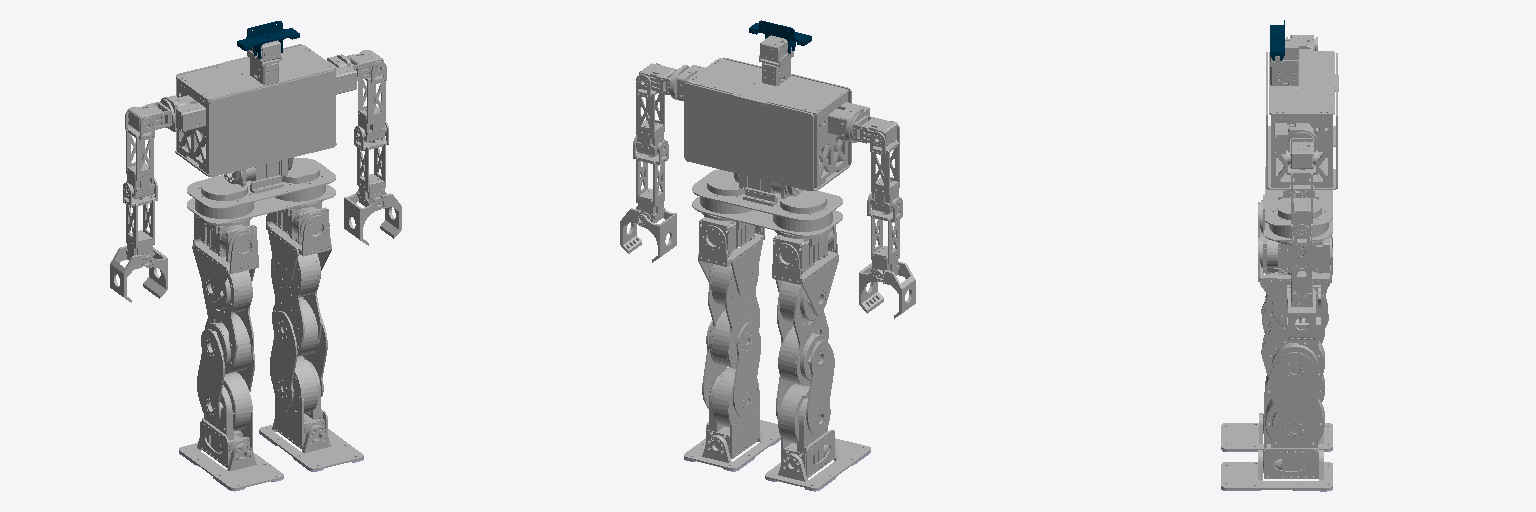
--- Facts derived from the render (not from the file) ---
3 views of the same robot in one strip: view 1: azimuth 30°, elevation 25°; view 2: azimuth 150°, elevation 25°; view 3: azimuth 270°, elevation 25° (orthographic).
Model v1120114 with 30 links and 29 joints (21 continuous, 8 fixed), rooted at base_link, posed all joints at 0.
Visible links, largest first — view 1: link3, base_link, link32, link13, link23, link42, link34, link44, link43, link35, link41, link45 (+10 smaller); view 2: link3, base_link, link32, link13, link23, link42, link34, link44, link43, link41, link31, link33 (+10 smaller); view 3: link3, link43, link23, link44, link42, base_link, link45, link40, link35, link41, link22, link21.
Link boxes in pixels (box(x1,y1,x2,y2)): link3: box(161, 44, 356, 183); base_link: box(187, 158, 335, 224); link32: box(202, 257, 253, 373); link13: box(110, 178, 167, 302); link23: box(344, 121, 401, 245); link42: box(271, 253, 321, 356); link34: box(200, 372, 252, 467); link44: box(273, 356, 327, 448); link43: box(270, 311, 327, 406); link35: box(179, 438, 283, 489); link41: box(266, 215, 331, 286); link45: box(259, 419, 363, 469); link3: box(671, 58, 869, 196); base_link: box(692, 169, 842, 236); link32: box(777, 270, 828, 385); link13: box(859, 192, 915, 318); link23: box(620, 135, 676, 262); link42: box(708, 252, 759, 368); link34: box(778, 384, 834, 478); link44: box(706, 368, 759, 458); link43: box(702, 320, 760, 418); link41: box(698, 225, 764, 297); link31: box(772, 237, 838, 312); link33: box(776, 340, 834, 436); link3: box(1266, 44, 1338, 197); link43: box(1269, 352, 1321, 445); link23: box(1287, 224, 1320, 339); link44: box(1263, 399, 1324, 478); link42: box(1261, 293, 1328, 385); base_link: box(1265, 167, 1332, 241); link45: box(1221, 450, 1332, 489); link40: box(1260, 230, 1330, 272); link35: box(1221, 413, 1332, 450); link41: box(1258, 237, 1332, 322); link22: box(1286, 150, 1317, 235); link21: box(1287, 132, 1316, 168).
Bounding box of the posed robot: 0.5163 × 0.1898 × 0.762 m (x, y, z).
Meshes: 30 distinct files referenced, 30 mesh visuals loaded (30 binary STL).

URDF robot description (v1120114):
<?xml version="1.0" encoding="utf-8"?>
<!-- This URDF was automatically created by SolidWorks to URDF Exporter! Originally created by Stephen Brawner ([email redacted]) 
     Commit Version: 1.6.0-4-g7f85cfe  Build Version: 1.6.7995.38578
     For more information, please see http://wiki.ros.org/sw_urdf_exporter -->
<robot
  name="v1120114">
  <link
    name="base_link">
    <inertial>
      <origin
        xyz="0.0291376719735389 -0.00232841132499396 -0.0260909942531327"
        rpy="0 0 0" />
      <mass
        value="1.70448509015393" />
      <inertia
        ixx="0.000990902418013622"
        ixy="-4.41076173735161E-08"
        ixz="4.44507951399018E-10"
        iyy="0.00213234338098191"
        iyz="3.50429747363444E-06"
        izz="0.00150337021292883" />
    </inertial>
    <visual>
      <origin
        xyz="0 0 0"
        rpy="0 0 0" />
      <geometry>
        <mesh
          filename="package://v1120114/meshes/base_link.STL" />
      </geometry>
      <material
        name="">
        <color
          rgba="0.752941176470588 0.752941176470588 0.752941176470588 1" />
      </material>
    </visual>
    <collision>
      <origin
        xyz="0 0 0"
        rpy="0 0 0" />
      <geometry>
        <mesh
          filename="package://v1120114/meshes/base_link.STL" />
      </geometry>
    </collision>
  </link>
  <link
    name="link3">
    <inertial>
      <origin
        xyz="0.00106898627925063 -6.13352575565967E-07 0.109277892349844"
        rpy="0 0 0" />
      <mass
        value="1.02787228097608" />
      <inertia
        ixx="0.00256857014602343"
        ixy="-3.37682122362648E-08"
        ixz="2.20061121136571E-06"
        iyy="0.00105757702703917"
        iyz="-3.24676155208834E-10"
        izz="0.00245909018529" />
    </inertial>
    <visual>
      <origin
        xyz="0 0 0"
        rpy="0 0 0" />
      <geometry>
        <mesh
          filename="package://v1120114/meshes/link3.STL" />
      </geometry>
      <material
        name="">
        <color
          rgba="0.752941176470588 0.752941176470588 0.752941176470588 1" />
      </material>
    </visual>
    <collision>
      <origin
        xyz="0 0 0"
        rpy="0 0 0" />
      <geometry>
        <mesh
          filename="package://v1120114/meshes/link3.STL" />
      </geometry>
    </collision>
  </link>
  <joint
    name="joint3"
    type="continuous">
    <origin
      xyz="0.02475 0.026 0.0315"
      rpy="0 0 -1.5708" />
    <parent
      link="base_link" />
    <child
      link="link3" />
    <axis
      xyz="0 -1 0" />
  </joint>
  <link
    name="link2">
    <inertial>
      <origin
        xyz="-0.0116602183846459 0.000361279735885737 0.0166253001732367"
        rpy="0 0 0" />
      <mass
        value="0.0523123931279547" />
      <inertia
        ixx="8.53895873186143E-06"
        ixy="-1.99833625344026E-08"
        ixz="1.81459483650498E-08"
        iyy="1.21489113617251E-05"
        iyz="-2.11768165409156E-17"
        izz="1.50041243795591E-05" />
    </inertial>
    <visual>
      <origin
        xyz="0 0 0"
        rpy="0 0 0" />
      <geometry>
        <mesh
          filename="package://v1120114/meshes/link2.STL" />
      </geometry>
      <material
        name="">
        <color
          rgba="0.752941176470588 0.752941176470588 0.752941176470588 1" />
      </material>
    </visual>
    <collision>
      <origin
        xyz="0 0 0"
        rpy="0 0 0" />
      <geometry>
        <mesh
          filename="package://v1120114/meshes/link2.STL" />
      </geometry>
    </collision>
  </link>
  <joint
    name="joint2"
    type="continuous">
    <origin
      xyz="0.0345 0 0.1995"
      rpy="0 0 0" />
    <parent
      link="link3" />
    <child
      link="link2" />
    <axis
      xyz="0 0 1" />
  </joint>
  <link
    name="link1">
    <inertial>
      <origin
        xyz="-0.00169500535411865 -0.0200192249368634 -2.35547692462035E-13"
        rpy="0 0 0" />
      <mass
        value="0.0158060600482859" />
      <inertia
        ixx="1.49380872581015E-05"
        ixy="-3.18300006842022E-07"
        ixz="5.33619491943895E-14"
        iyy="1.49156221752885E-05"
        iyz="2.70520019157455E-17"
        izz="1.82963832607674E-06" />
    </inertial>
    <visual>
      <origin
        xyz="0 0 0"
        rpy="0 0 0" />
      <geometry>
        <mesh
          filename="package://v1120114/meshes/link1.STL" />
      </geometry>
      <material
        name="">
        <color
          rgba="0 0.235294117647059 0.352941176470588 1" />
      </material>
    </visual>
    <collision>
      <origin
        xyz="0 0 0"
        rpy="0 0 0" />
      <geometry>
        <mesh
          filename="package://v1120114/meshes/link1.STL" />
      </geometry>
    </collision>
  </link>
  <joint
    name="joint1"
    type="continuous">
    <origin
      xyz="0 0 0.01925"
      rpy="-1.5708 0 0" />
    <parent
      link="link2" />
    <child
      link="link1" />
    <axis
      xyz="0 0 1" />
  </joint>
  <link
    name="link11">
    <inertial>
      <origin
        xyz="-0.000301742188351311 5.89278625895417E-12 0.0264624259819208"
        rpy="0 0 0" />
      <mass
        value="0.0712150035674857" />
      <inertia
        ixx="1.55662024225693E-05"
        ixy="-2.11558691998734E-17"
        ixz="1.99833625344026E-08"
        iyy="1.63739672615053E-05"
        iyz="-1.66982230363125E-14"
        izz="1.17915618373004E-05" />
    </inertial>
    <visual>
      <origin
        xyz="0 0 0"
        rpy="0 0 0" />
      <geometry>
        <mesh
          filename="package://v1120114/meshes/link11.STL" />
      </geometry>
      <material
        name="">
        <color
          rgba="0.752941176470588 0.752941176470588 0.752941176470588 1" />
      </material>
    </visual>
    <collision>
      <origin
        xyz="0 0 0"
        rpy="0 0 0" />
      <geometry>
        <mesh
          filename="package://v1120114/meshes/link11.STL" />
      </geometry>
    </collision>
  </link>
  <joint
    name="joint11"
    type="continuous">
    <origin
      xyz="-0.005 -0.168 0.129"
      rpy="-1.5708 0 3.1416" />
    <parent
      link="link3" />
    <child
      link="link11" />
    <axis
      xyz="0 0 1" />
  </joint>
  <link
    name="link12">
    <inertial>
      <origin
        xyz="-0.0806893215186349 0.000215232679511151 4.77920134023258E-12"
        rpy="0 0 0" />
      <mass
        value="0.0878091914998004" />
      <inertia
        ixx="1.11537385316148E-05"
        ixy="1.99833625344143E-08"
        ixz="1.66983819679157E-14"
        iyy="3.4579475534257E-05"
        iyz="2.11771711192231E-17"
        izz="3.92290812378862E-05" />
    </inertial>
    <visual>
      <origin
        xyz="0 0 0"
        rpy="0 0 0" />
      <geometry>
        <mesh
          filename="package://v1120114/meshes/link12.STL" />
      </geometry>
      <material
        name="">
        <color
          rgba="0.752941176470588 0.752941176470588 0.752941176470588 1" />
      </material>
    </visual>
    <collision>
      <origin
        xyz="0 0 0"
        rpy="0 0 0" />
      <geometry>
        <mesh
          filename="package://v1120114/meshes/link12.STL" />
      </geometry>
    </collision>
  </link>
  <joint
    name="joint12"
    type="continuous">
    <origin
      xyz="0 0 0.04715"
      rpy="1.5708 0 -1.5708" />
    <parent
      link="link11" />
    <child
      link="link12" />
    <axis
      xyz="0 0 1" />
  </joint>
  <link
    name="link13">
    <inertial>
      <origin
        xyz="0.105814490495438 0.000533646751033057 -0.000370471378388859"
        rpy="0 0 0" />
      <mass
        value="0.140001131112476" />
      <inertia
        ixx="3.35192747605671E-05"
        ixy="1.98392206984745E-08"
        ixz="-4.6218474253649E-07"
        iyy="6.6362033771056E-05"
        iyz="-7.15138706926308E-11"
        izz="8.33848100523664E-05" />
    </inertial>
    <visual>
      <origin
        xyz="0 0 0"
        rpy="0 0 0" />
      <geometry>
        <mesh
          filename="package://v1120114/meshes/link13.STL" />
      </geometry>
      <material
        name="">
        <color
          rgba="0.752941176470588 0.752941176470588 0.752941176470588 1" />
      </material>
    </visual>
    <collision>
      <origin
        xyz="0 0 0"
        rpy="0 0 0" />
      <geometry>
        <mesh
          filename="package://v1120114/meshes/link13.STL" />
      </geometry>
    </collision>
  </link>
  <joint
    name="joint13"
    type="continuous">
    <origin
      xyz="-0.12015 0 0"
      rpy="1.5708 0 3.1416" />
    <parent
      link="link12" />
    <child
      link="link13" />
    <axis
      xyz="0 0 1" />
  </joint>
  <link
    name="link21">
    <inertial>
      <origin
        xyz="-0.000301742188351276 5.89289728125664E-12 0.0264624259819208"
        rpy="0 0 0" />
      <mass
        value="0.0712150035674857" />
      <inertia
        ixx="1.55662024225693E-05"
        ixy="-2.11912075755592E-17"
        ixz="1.99833625343981E-08"
        iyy="1.63739672615053E-05"
        iyz="-1.66982253386046E-14"
        izz="1.17915618373004E-05" />
    </inertial>
    <visual>
      <origin
        xyz="0 0 0"
        rpy="0 0 0" />
      <geometry>
        <mesh
          filename="package://v1120114/meshes/link21.STL" />
      </geometry>
      <material
        name="">
        <color
          rgba="0.752941176470588 0.752941176470588 0.752941176470588 1" />
      </material>
    </visual>
    <collision>
      <origin
        xyz="0 0 0"
        rpy="0 0 0" />
      <geometry>
        <mesh
          filename="package://v1120114/meshes/link21.STL" />
      </geometry>
    </collision>
  </link>
  <joint
    name="joint21"
    type="continuous">
    <origin
      xyz="-0.005 0.168 0.129"
      rpy="1.5708 0 3.1416" />
    <parent
      link="link3" />
    <child
      link="link21" />
    <axis
      xyz="0 0 1" />
  </joint>
  <link
    name="link22">
    <inertial>
      <origin
        xyz="-0.0806893215186348 -0.00021523267951129 -4.77937134313322E-12"
        rpy="0 0 0" />
      <mass
        value="0.0878091914998004" />
      <inertia
        ixx="1.11537385316148E-05"
        ixy="-1.99833625344029E-08"
        ixz="-1.66980541492834E-14"
        iyy="3.4579475534257E-05"
        iyz="2.11774003142362E-17"
        izz="3.92290812378862E-05" />
    </inertial>
    <visual>
      <origin
        xyz="0 0 0"
        rpy="0 0 0" />
      <geometry>
        <mesh
          filename="package://v1120114/meshes/link22.STL" />
      </geometry>
      <material
        name="">
        <color
          rgba="0.752941176470588 0.752941176470588 0.752941176470588 1" />
      </material>
    </visual>
    <collision>
      <origin
        xyz="0 0 0"
        rpy="0 0 0" />
      <geometry>
        <mesh
          filename="package://v1120114/meshes/link22.STL" />
      </geometry>
    </collision>
  </link>
  <joint
    name="joint22"
    type="continuous">
    <origin
      xyz="0 0 0.04715"
      rpy="-1.5708 0 1.5708" />
    <parent
      link="link21" />
    <child
      link="link22" />
    <axis
      xyz="0 0 1" />
  </joint>
  <link
    name="link23">
    <inertial>
      <origin
        xyz="0.105814490495438 0.000803636106430475 -0.000370471384384036"
        rpy="0 0 0" />
      <mass
        value="0.140001131112476" />
      <inertia
        ixx="3.35192747605671E-05"
        ixy="-2.01275043694385E-08"
        ixz="-4.62184709139895E-07"
        iyy="6.63620337710558E-05"
        iyz="-7.15138707663582E-11"
        izz="8.3384810052366E-05" />
    </inertial>
    <visual>
      <origin
        xyz="0 0 0"
        rpy="0 0 0" />
      <geometry>
        <mesh
          filename="package://v1120114/meshes/link23.STL" />
      </geometry>
      <material
        name="">
        <color
          rgba="0.752941176470588 0.752941176470588 0.752941176470588 1" />
      </material>
    </visual>
    <collision>
      <origin
        xyz="0 0 0"
        rpy="0 0 0" />
      <geometry>
        <mesh
          filename="package://v1120114/meshes/link23.STL" />
      </geometry>
    </collision>
  </link>
  <joint
    name="joint23"
    type="continuous">
    <origin
      xyz="-0.12015 0 0"
      rpy="-1.5708 0 -3.1416" />
    <parent
      link="link22" />
    <child
      link="link23" />
    <axis
      xyz="0 0 1" />
  </joint>
  <link
    name="link30">
    <inertial>
      <origin
        xyz="0.00554000793618788 8.08291142351258E-11 -0.0345319856767016"
        rpy="0 0 0" />
      <mass
        value="0.806272326764883" />
      <inertia
        ixx="0.000355245879879767"
        ixy="-6.83753014650513E-14"
        ixz="-1.25194398418953E-07"
        iyy="0.000878781554386932"
        iyz="-6.63237497724128E-13"
        izz="0.00090458058269154" />
    </inertial>
    <visual>
      <origin
        xyz="0 0 0"
        rpy="0 0 0" />
      <geometry>
        <mesh
          filename="package://v1120114/meshes/link30.STL" />
      </geometry>
      <material
        name="">
        <color
          rgba="0.752941176470588 0.752941176470588 0.752941176470588 1" />
      </material>
    </visual>
    <collision>
      <origin
        xyz="0 0 0"
        rpy="0 0 0" />
      <geometry>
        <mesh
          filename="package://v1120114/meshes/link30.STL" />
      </geometry>
    </collision>
  </link>
  <joint
    name="joint30"
    type="continuous">
    <origin
      xyz="-0.03675 0.026 -0.0345"
      rpy="0 0 -1.5708" />
    <parent
      link="base_link" />
    <child
      link="link30" />
    <axis
      xyz="0 0 1" />
  </joint>
  <link
    name="link31">
    <inertial>
      <origin
        xyz="0.000278209185798961 0.0462992853816014 0.000602096718722123"
        rpy="0 0 0" />
      <mass
        value="0.130677921668038" />
      <inertia
        ixx="0.00012417378816091"
        ixy="3.67919117796768E-09"
        ixz="-6.24190432577224E-19"
        iyy="0.000109145925467629"
        iyz="5.26854666022362E-09"
        izz="5.4282035741635E-05" />
    </inertial>
    <visual>
      <origin
        xyz="0 0 0"
        rpy="0 0 0" />
      <geometry>
        <mesh
          filename="package://v1120114/meshes/link31.STL" />
      </geometry>
      <material
        name="">
        <color
          rgba="0.752941176470588 0.752941176470588 0.752941176470588 1" />
      </material>
    </visual>
    <collision>
      <origin
        xyz="0 0 0"
        rpy="0 0 0" />
      <geometry>
        <mesh
          filename="package://v1120114/meshes/link31.STL" />
      </geometry>
    </collision>
  </link>
  <joint
    name="joint31"
    type="continuous">
    <origin
      xyz="0.006 0 -0.037"
      rpy="-1.5708 0 -1.5708" />
    <parent
      link="link30" />
    <child
      link="link31" />
    <axis
      xyz="0 0 1" />
  </joint>
  <link
    name="link32">
    <inertial>
      <origin
        xyz="0.0524999984599406 -0.000156807648156621 -0.002357216971007"
        rpy="0 0 0" />
      <mass
        value="1.38582744383832" />
      <inertia
        ixx="0.000884050182416621"
        ixy="-1.27881752820514E-05"
        ixz="6.06836610524595E-12"
        iyy="0.00106169533356733"
        iyz="3.23782317486244E-06"
        izz="0.00167603132928229" />
    </inertial>
    <visual>
      <origin
        xyz="0 0 0"
        rpy="0 0 0" />
      <geometry>
        <mesh
          filename="package://v1120114/meshes/link32.STL" />
      </geometry>
      <material
        name="">
        <color
          rgba="0.752941176470588 0.752941176470588 0.752941176470588 1" />
      </material>
    </visual>
    <collision>
      <origin
        xyz="0 0 0"
        rpy="0 0 0" />
      <geometry>
        <mesh
          filename="package://v1120114/meshes/link32.STL" />
      </geometry>
    </collision>
  </link>
  <joint
    name="joint32"
    type="continuous">
    <origin
      xyz="0.0005 0.091 0"
      rpy="1.5708 0 1.5708" />
    <parent
      link="link31" />
    <child
      link="link32" />
    <axis
      xyz="0 0 -1" />
  </joint>
  <link
    name="link33">
    <inertial>
      <origin
        xyz="0.0525000000000001 1.57492074936982E-13 -0.000363508939261098"
        rpy="0 0 0" />
      <mass
        value="0.103556252397137" />
      <inertia
        ixx="4.28670952246562E-05"
        ixy="1.36579211763396E-05"
        ixz="-6.45925060496941E-19"
        iyy="0.00018664459711235"
        iyz="1.35333939297631E-18"
        izz="0.00022935635795841" />
    </inertial>
    <visual>
      <origin
        xyz="0 0 0"
        rpy="0 0 0" />
      <geometry>
        <mesh
          filename="package://v1120114/meshes/link33.STL" />
      </geometry>
      <material
        name="">
        <color
          rgba="0.752941176470588 0.752941176470588 0.752941176470588 1" />
      </material>
    </visual>
    <collision>
      <origin
        xyz="0 0 0"
        rpy="0 0 0" />
      <geometry>
        <mesh
          filename="package://v1120114/meshes/link33.STL" />
      </geometry>
    </collision>
  </link>
  <joint
    name="joint33"
    type="continuous">
    <origin
      xyz="0.105 0 0"
      rpy="0 0 0" />
    <parent
      link="link32" />
    <child
      link="link33" />
    <axis
      xyz="0 0 1" />
  </joint>
  <link
    name="link34">
    <inertial>
      <origin
        xyz="0.0251446399716561 0.00218092100626498 -0.000801198975673878"
        rpy="0 0 0" />
      <mass
        value="1.07204853226013" />
      <inertia
        ixx="0.000692759285619266"
        ixy="-8.63222844010411E-07"
        ixz="1.5410896401853E-06"
        iyy="0.000578449268605821"
        iyz="3.29608113684626E-07"
        izz="0.00104157035657965" />
    </inertial>
    <visual>
      <origin
        xyz="0 0 0"
        rpy="0 0 0" />
      <geometry>
        <mesh
          filename="package://v1120114/meshes/link34.STL" />
      </geometry>
      <material
        name="">
        <color
          rgba="0.752941176470588 0.752941176470588 0.752941176470588 1" />
      </material>
    </visual>
    <collision>
      <origin
        xyz="0 0 0"
        rpy="0 0 0" />
      <geometry>
        <mesh
          filename="package://v1120114/meshes/link34.STL" />
      </geometry>
    </collision>
  </link>
  <joint
    name="joint34"
    type="continuous">
    <origin
      xyz="0.105 0 0"
      rpy="0 0 0" />
    <parent
      link="link33" />
    <child
      link="link34" />
    <axis
      xyz="0 0 1" />
  </joint>
  <link
    name="link35">
    <inertial>
      <origin
        xyz="-0.0184976945134758 0.00459453082150389 0.027519840562322"
        rpy="0 0 0" />
      <mass
        value="0.101715978638777" />
      <inertia
        ixx="0.000286514322175962"
        ixy="-4.96427545568033E-21"
        ixz="4.94536441550219E-21"
        iyy="0.000216072234976875"
        iyz="4.16367415337667E-06"
        izz="7.9033468592329E-05" />
    </inertial>
    <visual>
      <origin
        xyz="0 0 0"
        rpy="0 0 0" />
      <geometry>
        <mesh
          filename="package://v1120114/meshes/link35.STL" />
      </geometry>
      <material
        name="">
        <color
          rgba="0.752941176470588 0.752941176470588 0.752941176470588 1" />
      </material>
    </visual>
    <collision>
      <origin
        xyz="0 0 0"
        rpy="0 0 0" />
      <geometry>
        <mesh
          filename="package://v1120114/meshes/link35.STL" />
      </geometry>
    </collision>
  </link>
  <joint
    name="joint35"
    type="continuous">
    <origin
      xyz="0.069 -0.000385 0.002"
      rpy="1.5708 0 -3.1416" />
    <parent
      link="link34" />
    <child
      link="link35" />
    <axis
      xyz="0 0 1" />
  </joint>
  <link
    name="FS_R_RF">
    <inertial>
      <origin
        xyz="0.00667883388876864 0.0609062463844057 -0.00349957081283514"
        rpy="0 0 0" />
      <mass
        value="0.0032199225349602" />
      <inertia
        ixx="1.16100753183013E-06"
        ixy="-1.19859619550744E-07"
        ixz="3.33069086044537E-24"
        iyy="1.10212937953243E-07"
        iyz="-1.86269362572954E-23"
        izz="1.26639058598094E-06" />
    </inertial>
    <visual>
      <origin
        xyz="0 0 0"
        rpy="0 0 0" />
      <geometry>
        <mesh
          filename="package://v1120114/meshes/FS_R_RF.STL" />
      </geometry>
      <material
        name="">
        <color
          rgba="0.792156862745098 0.819607843137255 0.933333333333333 1" />
      </material>
    </visual>
    <collision>
      <origin
        xyz="0 0 0"
        rpy="0 0 0" />
      <geometry>
        <mesh
          filename="package://v1120114/meshes/FS_R_RF.STL" />
      </geometry>
    </collision>
  </link>
  <joint
    name="sensor_R_RF"
    type="fixed">
    <origin
      xyz="-0.031 0.0525 0.029"
      rpy="1.5708 0 -1.5708" />
    <parent
      link="link35" />
    <child
      link="FS_R_RF" />
    <axis
      xyz="0 0 0" />
  </joint>
  <link
    name="FS_R_RB">
    <inertial>
      <origin
        xyz="0.00667883388876814 0.0601362536490736 0.00349957081283514"
        rpy="0 0 0" />
      <mass
        value="0.0032199225349602" />
      <inertia
        ixx="1.16100753183014E-06"
        ixy="-1.19859619550735E-07"
        ixz="-4.42140444419599E-24"
        iyy="1.10212937953241E-07"
        iyz="-2.44308297506462E-23"
        izz="1.26639058598094E-06" />
    </inertial>
    <visual>
      <origin
        xyz="0 0 0"
        rpy="0 0 0" />
      <geometry>
        <mesh
          filename="package://v1120114/meshes/FS_R_RB.STL" />
      </geometry>
      <material
        name="">
        <color
          rgba="0.792156862745098 0.819607843137255 0.933333333333333 1" />
      </material>
    </visual>
    <collision>
      <origin
        xyz="0 0 0"
        rpy="0 0 0" />
      <geometry>
        <mesh
          filename="package://v1120114/meshes/FS_R_RB.STL" />
      </geometry>
    </collision>
  </link>
  <joint
    name="sensor_R_RB"
    type="fixed">
    <origin
      xyz="-0.031 0.0525 0.029"
      rpy="-1.5708 0 -1.5708" />
    <parent
      link="link35" />
    <child
      link="FS_R_RB" />
    <axis
      xyz="0 0 0" />
  </joint>
  <link
    name="FS_R_LF">
    <inertial>
      <origin
        xyz="0.00955052389263713 0.0554368050227523 0.00349957081277874"
        rpy="0 0 0" />
      <mass
        value="0.0032199225349602" />
      <inertia
        ixx="1.16100753183014E-06"
        ixy="-1.19859619550735E-07"
        ixz="8.31487419978297E-25"
        iyy="1.10212937953241E-07"
        iyz="2.06915086866721E-23"
        izz="1.26639058598094E-06" />
    </inertial>
    <visual>
      <origin
        xyz="0 0 0"
        rpy="0 0 0" />
      <geometry>
        <mesh
          filename="package://v1120114/meshes/FS_R_LF.STL" />
      </geometry>
      <material
        name="">
        <color
          rgba="0.792156862745098 0.819607843137255 0.933333333333333 1" />
      </material>
    </visual>
    <collision>
      <origin
        xyz="0 0 0"
        rpy="0 0 0" />
      <geometry>
        <mesh
          filename="package://v1120114/meshes/FS_R_LF.STL" />
      </geometry>
    </collision>
  </link>
  <joint
    name="sensor_R_LF"
    type="fixed">
    <origin
      xyz="-0.031 -0.045372 0.034469"
      rpy="1.5708 0 1.5708" />
    <parent
      link="link35" />
    <child
      link="FS_R_LF" />
    <axis
      xyz="0 0 0" />
  </joint>
  <link
    name="FS_R_LB">
    <inertial>
      <origin
        xyz="0.00955052389263822 0.0656056950107085 -0.00349957081277869"
        rpy="0 0 0" />
      <mass
        value="0.0032199225349602" />
      <inertia
        ixx="1.16100753183013E-06"
        ixy="-1.19859619550754E-07"
        ixz="-4.66245983565296E-24"
        iyy="1.10212937953246E-07"
        iyz="2.30972215019163E-23"
        izz="1.26639058598094E-06" />
    </inertial>
    <visual>
      <origin
        xyz="0 0 0"
        rpy="0 0 0" />
      <geometry>
        <mesh
          filename="package://v1120114/meshes/FS_R_LB.STL" />
      </geometry>
      <material
        name="">
        <color
          rgba="0.792156862745098 0.819607843137255 0.933333333333333 1" />
      </material>
    </visual>
    <collision>
      <origin
        xyz="0 0 0"
        rpy="0 0 0" />
      <geometry>
        <mesh
          filename="package://v1120114/meshes/FS_R_LB.STL" />
      </geometry>
    </collision>
  </link>
  <joint
    name="sensor_R_LB"
    type="fixed">
    <origin
      xyz="-0.0310000000000013 -0.0453716910433103 0.034469441386689"
      rpy="-1.5707963267949 0 1.5707963267949" />
    <parent
      link="link35" />
    <child
      link="FS_R_LB" />
    <axis
      xyz="0 0 0" />
  </joint>
  <link
    name="link40">
    <inertial>
      <origin
        xyz="0.00554000793612851 8.09094596876392E-11 -0.0345319856767242"
        rpy="0 0 0" />
      <mass
        value="0.806272326765583" />
      <inertia
        ixx="0.00035524587987917"
        ixy="-6.99298875252321E-14"
        ixz="-1.25194398560956E-07"
        iyy="0.000878781554386758"
        iyz="-6.64125236525314E-13"
        izz="0.000904580582691135" />
    </inertial>
    <visual>
      <origin
        xyz="0 0 0"
        rpy="0 0 0" />
      <geometry>
        <mesh
          filename="package://v1120114/meshes/link40.STL" />
      </geometry>
      <material
        name="">
        <color
          rgba="0.752941176470588 0.752941176470588 0.752941176470588 1" />
      </material>
    </visual>
    <collision>
      <origin
        xyz="0 0 0"
        rpy="0 0 0" />
      <geometry>
        <mesh
          filename="package://v1120114/meshes/link40.STL" />
      </geometry>
    </collision>
  </link>
  <joint
    name="joint40"
    type="continuous">
    <origin
      xyz="0.09725 0.026 -0.0345"
      rpy="0 0 -1.5781" />
    <parent
      link="base_link" />
    <child
      link="link40" />
    <axis
      xyz="0 0 1" />
  </joint>
  <link
    name="link41">
    <inertial>
      <origin
        xyz="-0.000278209185814601 0.0462992853815996 -0.000602096718738381"
        rpy="0 0 0" />
      <mass
        value="0.130677921668038" />
      <inertia
        ixx="0.00012417378816091"
        ixy="-3.67919117795142E-09"
        ixz="1.89826515636132E-16"
        iyy="0.00010914592546763"
        iyz="-5.268546660581E-09"
        izz="5.42820357416351E-05" />
    </inertial>
    <visual>
      <origin
        xyz="0 0 0"
        rpy="0 0 0" />
      <geometry>
        <mesh
          filename="package://v1120114/meshes/link41.STL" />
      </geometry>
      <material
        name="">
        <color
          rgba="0.752941176470588 0.752941176470588 0.752941176470588 1" />
      </material>
    </visual>
    <collision>
      <origin
        xyz="0 0 0"
        rpy="0 0 0" />
      <geometry>
        <mesh
          filename="package://v1120114/meshes/link41.STL" />
      </geometry>
    </collision>
  </link>
  <joint
    name="joint41"
    type="continuous">
    <origin
      xyz="0.006 0 -0.037"
      rpy="-1.5708 0 -1.5708" />
    <parent
      link="link40" />
    <child
      link="link41" />
    <axis
      xyz="0 0 1" />
  </joint>
  <link
    name="link42">
    <inertial>
      <origin
        xyz="0.0526108786201295 -4.59281374763747E-05 -0.00235721695964547"
        rpy="0 0 0" />
      <mass
        value="1.385827444465" />
      <inertia
        ixx="0.000886845906013743"
        ixy="1.27535930788155E-05"
        ixz="-2.28948245765136E-06"
        iyy="0.00105889960972508"
        iyz="9.4833748687106E-07"
        izz="0.00167603132903397" />
    </inertial>
    <visual>
      <origin
        xyz="0 0 0"
        rpy="0 0 0" />
      <geometry>
        <mesh
          filename="package://v1120114/meshes/link42.STL" />
      </geometry>
      <material
        name="">
        <color
          rgba="0.752941176470588 0.752941176470588 0.752941176470588 1" />
      </material>
    </visual>
    <collision>
      <origin
        xyz="0 0 0"
        rpy="0 0 0" />
      <geometry>
        <mesh
          filename="package://v1120114/meshes/link42.STL" />
      </geometry>
    </collision>
  </link>
  <joint
    name="joint42"
    type="continuous">
    <origin
      xyz="-0.0005 0.091 0"
      rpy="-1.5708 0 1.5708" />
    <parent
      link="link41" />
    <child
      link="link42" />
    <axis
      xyz="0 0 -1" />
  </joint>
  <link
    name="link43">
    <inertial>
      <origin
        xyz="0.0524999999999997 -2.44835401952415E-13 -0.000363508939245749"
        rpy="0 0 0" />
      <mass
        value="0.103556252397137" />
      <inertia
        ixx="4.28670952246564E-05"
        ixy="-1.36579211763406E-05"
        ixz="3.71021845864953E-17"
        iyy="0.00018664459711235"
        iyz="1.16026255477539E-16"
        izz="0.00022935635795841" />
    </inertial>
    <visual>
      <origin
        xyz="0 0 0"
        rpy="0 0 0" />
      <geometry>
        <mesh
          filename="package://v1120114/meshes/link43.STL" />
      </geometry>
      <material
        name="">
        <color
          rgba="0.752941176470588 0.752941176470588 0.752941176470588 1" />
      </material>
    </visual>
    <collision>
      <origin
        xyz="0 0 0"
        rpy="0 0 0" />
      <geometry>
        <mesh
          filename="package://v1120114/meshes/link43.STL" />
      </geometry>
    </collision>
  </link>
  <joint
    name="joint43"
    type="continuous">
    <origin
      xyz="0.105 0 0"
      rpy="0 0 0" />
    <parent
      link="link42" />
    <child
      link="link43" />
    <axis
      xyz="0 0 1" />
  </joint>
  <link
    name="link44">
    <inertial>
      <origin
        xyz="0.0251446398759674 -0.00218092278055473 -0.000801195731302787"
        rpy="0 0 0" />
      <mass
        value="1.07204853166412" />
      <inertia
        ixx="0.000692759282208485"
        ixy="8.38756278633913E-07"
        ixz="1.54107990460164E-06"
        iyy="0.000578449272546195"
        iyz="-3.29614988994629E-07"
        izz="0.00104157035920486" />
    </inertial>
    <visual>
      <origin
        xyz="0 0 0"
        rpy="0 0 0" />
      <geometry>
        <mesh
          filename="package://v1120114/meshes/link44.STL" />
      </geometry>
      <material
        name="">
        <color
          rgba="0.752941176470588 0.752941176470588 0.752941176470588 1" />
      </material>
    </visual>
    <collision>
      <origin
        xyz="0 0 0"
        rpy="0 0 0" />
      <geometry>
        <mesh
          filename="package://v1120114/meshes/link44.STL" />
      </geometry>
    </collision>
  </link>
  <joint
    name="joint44"
    type="continuous">
    <origin
      xyz="0.105 0 0"
      rpy="0 0 0" />
    <parent
      link="link43" />
    <child
      link="link44" />
    <axis
      xyz="0 0 1" />
  </joint>
  <link
    name="link45">
    <inertial>
      <origin
        xyz="-0.0184972653262552 -0.00459453134124363 0.0211348441698521"
        rpy="0 0 0" />
      <mass
        value="0.101715978638777" />
      <inertia
        ixx="0.000286514322175962"
        ixy="1.0606342828436E-17"
        ixz="6.64291387342064E-19"
        iyy="0.000216072234976875"
        iyz="-4.16367415337648E-06"
        izz="7.90334685923289E-05" />
    </inertial>
    <visual>
      <origin
        xyz="0 0 0"
        rpy="0 0 0" />
      <geometry>
        <mesh
          filename="package://v1120114/meshes/link45.STL" />
      </geometry>
      <material
        name="">
        <color
          rgba="0.752941176470588 0.752941176470588 0.752941176470588 1" />
      </material>
    </visual>
    <collision>
      <origin
        xyz="0 0 0"
        rpy="0 0 0" />
      <geometry>
        <mesh
          filename="package://v1120114/meshes/link45.STL" />
      </geometry>
    </collision>
  </link>
  <joint
    name="joint45"
    type="continuous">
    <origin
      xyz="0.069 -0.006 0.002"
      rpy="-1.5708 0 3.1416" />
    <parent
      link="link44" />
    <child
      link="link45" />
    <axis
      xyz="0 0 1" />
  </joint>
  <link
    name="FS_L_RF">
    <inertial>
      <origin
        xyz="0.00685768676682037 0.0607267133593706 -0.00350000052450683"
        rpy="0 0 0" />
      <mass
        value="0.0032199225349602" />
      <inertia
        ixx="1.16100753183013E-06"
        ixy="-1.19859619550745E-07"
        ixz="1.58776323349033E-20"
        iyy="1.10212937953244E-07"
        iyz="1.79273033679142E-20"
        izz="1.26639058598093E-06" />
    </inertial>
    <visual>
      <origin
        xyz="0 0 0"
        rpy="0 0 0" />
      <geometry>
        <mesh
          filename="package://v1120114/meshes/FS_L_RF.STL" />
      </geometry>
      <material
        name="">
        <color
          rgba="0.792156862745098 0.819607843137255 0.933333333333333 1" />
      </material>
    </visual>
    <collision>
      <origin
        xyz="0 0 0"
        rpy="0 0 0" />
      <geometry>
        <mesh
          filename="package://v1120114/meshes/FS_L_RF.STL" />
      </geometry>
    </collision>
  </link>
  <joint
    name="sensor_L_RF"
    type="fixed">
    <origin
      xyz="-0.031 0.042679 0.022795"
      rpy="1.5708 0 -1.5708" />
    <parent
      link="link45" />
    <child
      link="FS_L_RF" />
    <axis
      xyz="0 0 0" />
  </joint>
  <link
    name="FS_L_RB">
    <inertial>
      <origin
        xyz="0.00685768676682034 0.0603157866741095 0.00350000052450677"
        rpy="0 0 0" />
      <mass
        value="0.0032199225349602" />
      <inertia
        ixx="1.16100753183014E-06"
        ixy="-1.19859619550744E-07"
        ixz="-1.58791127901289E-20"
        iyy="1.10212937953243E-07"
        iyz="-1.78379705783044E-20"
        izz="1.26639058598094E-06" />
    </inertial>
    <visual>
      <origin
        xyz="0 0 0"
        rpy="0 0 0" />
      <geometry>
        <mesh
          filename="package://v1120114/meshes/FS_L_RB.STL" />
      </geometry>
      <material
        name="">
        <color
          rgba="0.792156862745098 0.819607843137255 0.933333333333333 1" />
      </material>
    </visual>
    <collision>
      <origin
        xyz="0 0 0"
        rpy="0 0 0" />
      <geometry>
        <mesh
          filename="package://v1120114/meshes/FS_L_RB.STL" />
      </geometry>
    </collision>
  </link>
  <joint
    name="sensor_L_RB"
    type="fixed">
    <origin
      xyz="-0.031 0.042679 0.022795"
      rpy="-1.5708 0 -1.5708" />
    <parent
      link="link45" />
    <child
      link="FS_L_RB" />
    <axis
      xyz="0 0 0" />
  </joint>
  <link
    name="FS_L_LF">
    <inertial>
      <origin
        xyz="0.00143411083779144 0.0608851083541837 0.00350000052451938"
        rpy="0 0 0" />
      <mass
        value="0.0032199225349602" />
      <inertia
        ixx="1.16100753183013E-06"
        ixy="-1.19859619550744E-07"
        ixz="7.52255436042383E-23"
        iyy="1.10212937953243E-07"
        iyz="-1.36047695430559E-22"
        izz="1.26639058598094E-06" />
    </inertial>
    <visual>
      <origin
        xyz="0 0 0"
        rpy="0 0 0" />
      <geometry>
        <mesh
          filename="package://v1120114/meshes/FS_L_LF.STL" />
      </geometry>
      <material
        name="">
        <color
          rgba="0.792156862745098 0.819607843137255 0.933333333333333 1" />
      </material>
    </visual>
    <collision>
      <origin
        xyz="0 0 0"
        rpy="0 0 0" />
      <geometry>
        <mesh
          filename="package://v1120114/meshes/FS_L_LF.STL" />
      </geometry>
    </collision>
  </link>
  <joint
    name="sensor_L_LF"
    type="fixed">
    <origin
      xyz="-0.0310000005245151 -0.047255277468765 0.0226361416627758"
      rpy="1.5707963267949 0 1.57079632679505" />
    <parent
      link="link45" />
    <child
      link="FS_L_LF" />
    <axis
      xyz="0 0 0" />
  </joint>
  <link
    name="FS_L_LB">
    <inertial>
      <origin
        xyz="0.0114338420673542 0.0600840749928783 -0.00350000052452082"
        rpy="0 0 0" />
      <mass
        value="0.0032199225349602" />
      <inertia
        ixx="1.16100753183013E-06"
        ixy="-1.19859619550744E-07"
        ixz="-1.11328427265954E-22"
        iyy="1.10212937953243E-07"
        iyz="-1.44872813516444E-22"
        izz="1.26639058598094E-06" />
    </inertial>
    <visual>
      <origin
        xyz="0 0 0"
        rpy="0 0 0" />
      <geometry>
        <mesh
          filename="package://v1120114/meshes/FS_L_LB.STL" />
      </geometry>
      <material
        name="">
        <color
          rgba="0.792156862745098 0.819607843137255 0.933333333333333 1" />
      </material>
    </visual>
    <collision>
      <origin
        xyz="0 0 0"
        rpy="0 0 0" />
      <geometry>
        <mesh
          filename="package://v1120114/meshes/FS_L_LB.STL" />
      </geometry>
    </collision>
  </link>
  <joint
    name="sensor_L_LB"
    type="fixed">
    <origin
      xyz="-0.031 -0.057255 0.022563"
      rpy="-1.5708 0 1.5708" />
    <parent
      link="link45" />
    <child
      link="FS_L_LB" />
    <axis
      xyz="0 0 0" />
  </joint>
</robot>
